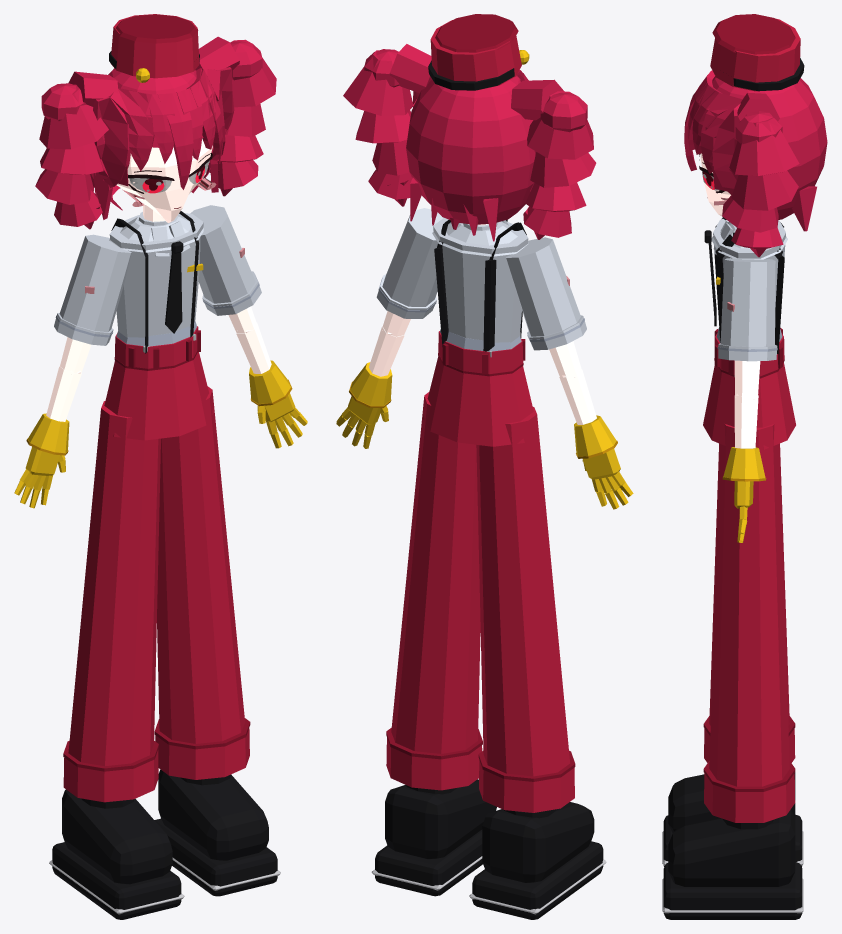
File: RedCrewGirl.fbx
The picture shows the model from 3 angles, left to right: view 1: azimuth 30°, elevation 25°; view 2: azimuth 150°, elevation 25°; view 3: azimuth 270°, elevation 25°; orthographic projection.
Visible parts, largest first — view 1: RedCrewGirl; view 2: RedCrewGirl; view 3: RedCrewGirl.
Part boxes in pixels (x1,y1,x2,y2): RedCrewGirl: (14,14,307,919); RedCrewGirl: (336,14,633,919); RedCrewGirl: (662,14,827,919).
Bounding box in the file's own units: 0.5783 × 1.6 × 0.2795.
